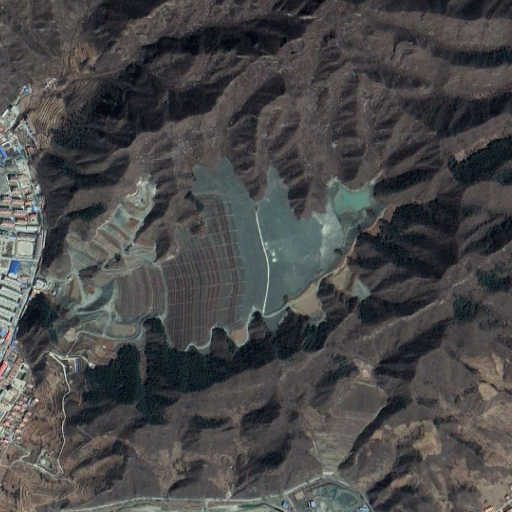tp: (109, 158, 381, 349)
